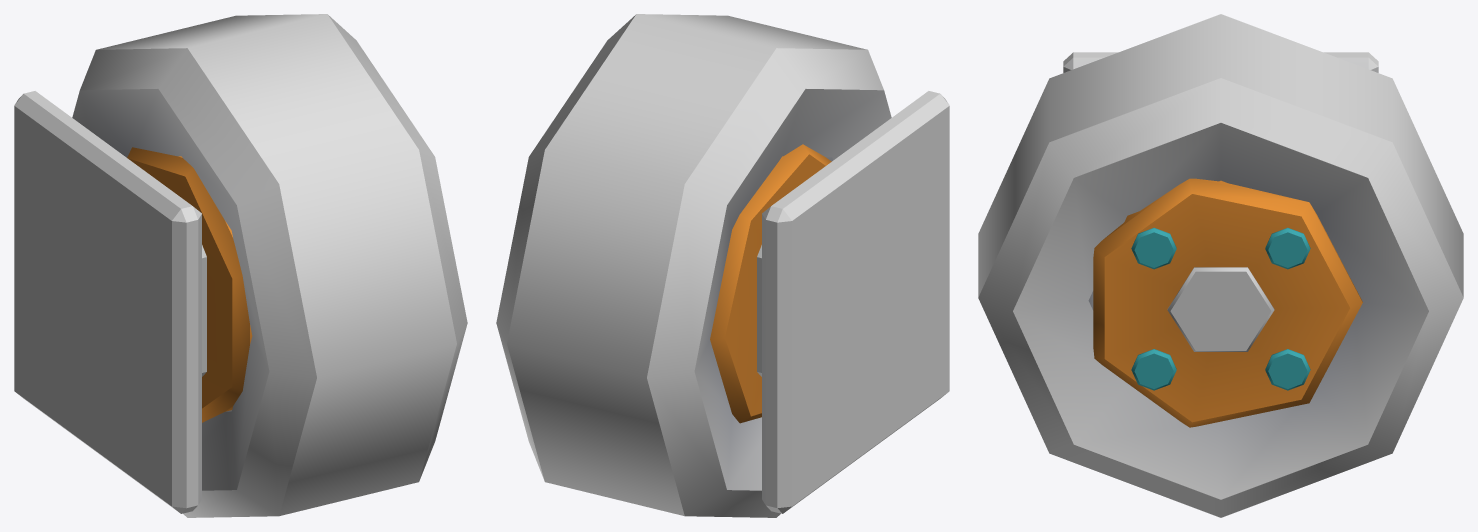
File: R4M_WheelM_Side_Offroad_LOD1.fbx
3 views of the same model, side by side, from view 1: azimuth 30°, elevation 25°; view 2: azimuth 150°, elevation 25°; view 3: azimuth 270°, elevation 25° (orthographic). The views are drawn at different scales.
Visible parts, largest first — view 1: R4M_WheelM_Side_Offroad_LOD1; view 2: R4M_WheelM_Side_Offroad_LOD1; view 3: R4M_WheelM_Side_Offroad_LOD1.
Part boxes in pixels (<box>): R4M_WheelM_Side_Offroad_LOD1: <box>14,14,467,517</box>; R4M_WheelM_Side_Offroad_LOD1: <box>496,14,949,517</box>; R4M_WheelM_Side_Offroad_LOD1: <box>978,14,1463,517</box>.
Bounding box in the file's own units: 0.452 × 0.77 × 0.77.
